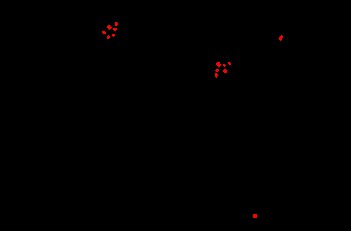Target: (107, 25, 112, 30), (216, 62, 221, 67), (279, 35, 283, 41), (223, 69, 227, 73), (253, 214, 257, 218), (215, 73, 218, 78), (115, 22, 118, 26), (113, 28, 117, 31), (102, 31, 106, 34), (107, 35, 110, 39), (215, 69, 219, 72), (112, 34, 115, 37), (228, 62, 231, 65), (223, 64, 226, 67)
